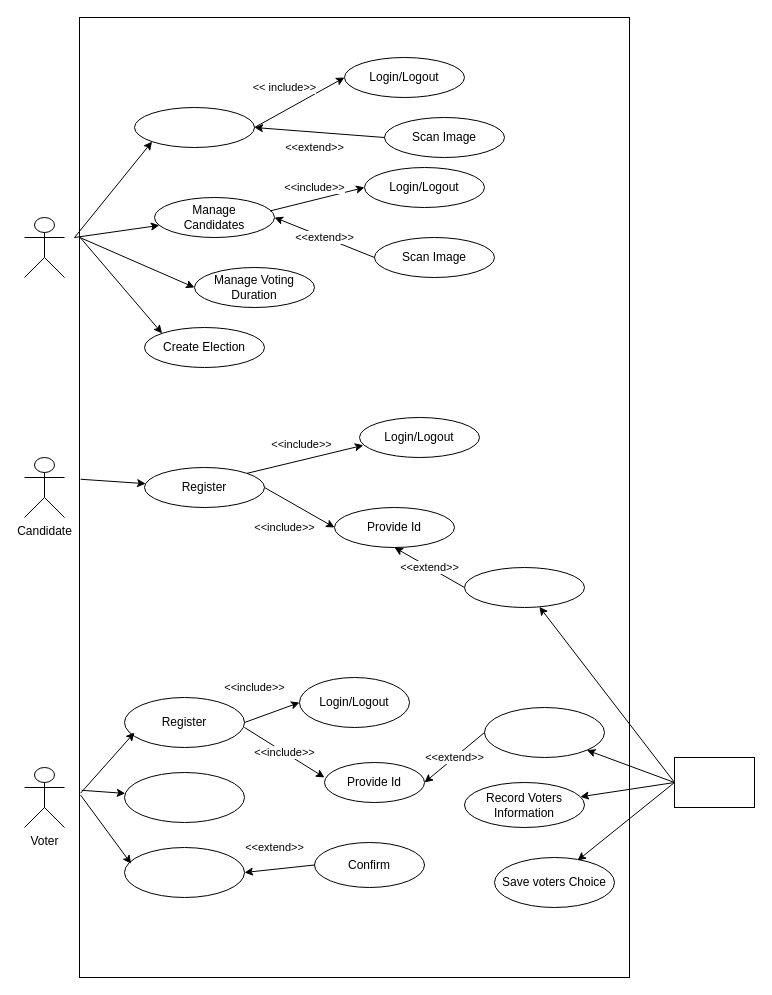
The diagram is 772 pixels wide and 995 high, and some of its shapes have lost their labels. Each missing label, with the centre of its shape:
Admin: the point at 44,247
Cast Vote: the point at 184,872
Check Candidate Identity: the point at 524,587
Check Voters Identity: the point at 544,732
Manage Voters: the point at 194,127
System: the point at 714,782
View Candidate: the point at 184,797
